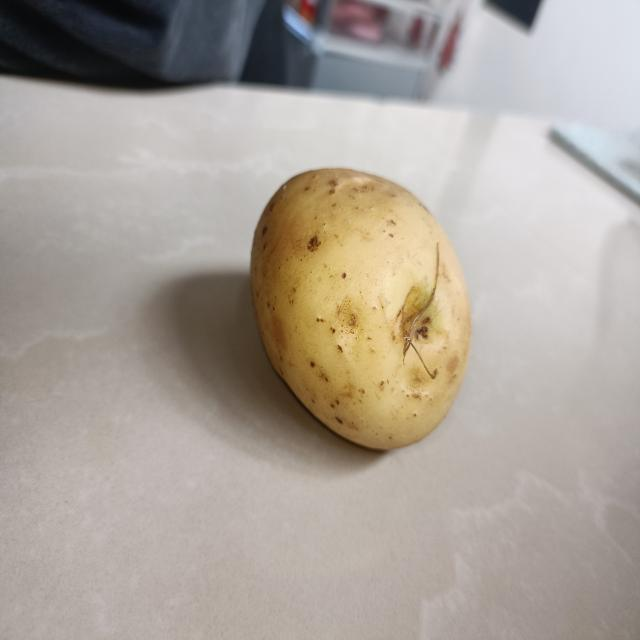potato: (244, 155, 473, 455)
